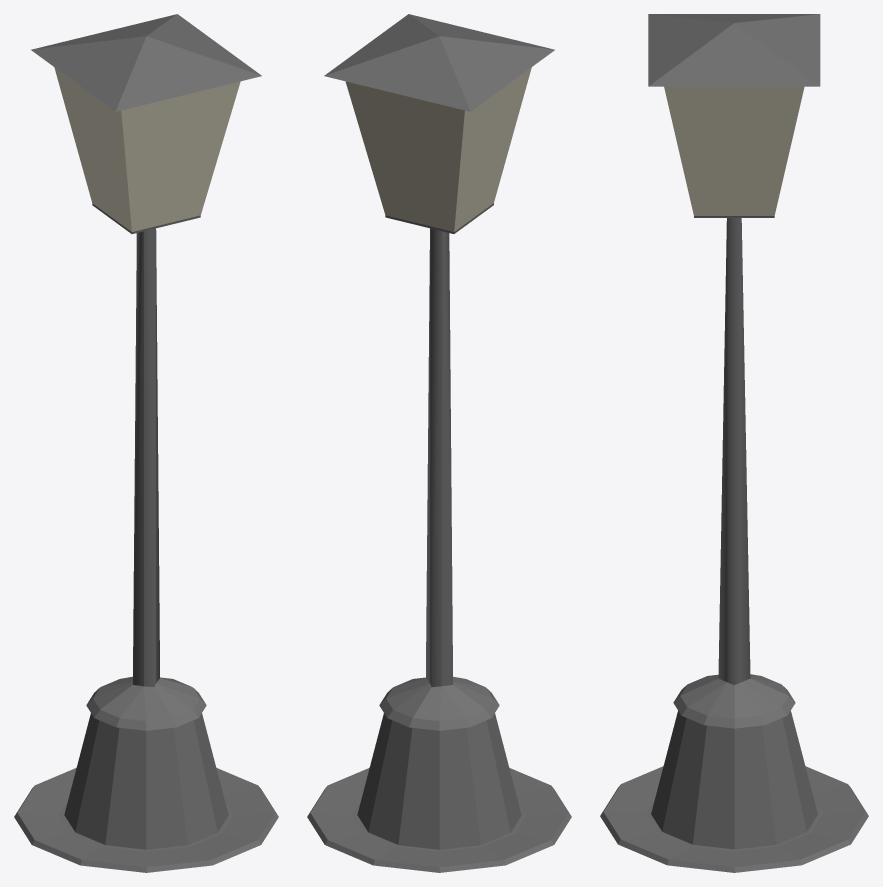
Rendered from lightPost01.fbx.
3 renders of one model, left to right at view 1: azimuth 30°, elevation 25°; view 2: azimuth 150°, elevation 25°; view 3: azimuth 270°, elevation 25°, orthographic.
Parts seen in each view (by area): view 1: pSphere3; view 2: pSphere3; view 3: pSphere3.
Part boxes in pixels (x1,y1,x2,y2): pSphere3: [14, 14, 278, 872]; pSphere3: [307, 14, 571, 872]; pSphere3: [600, 14, 868, 872].
Size of the model in its own units: 2.16 by 7.02 by 2.16.
